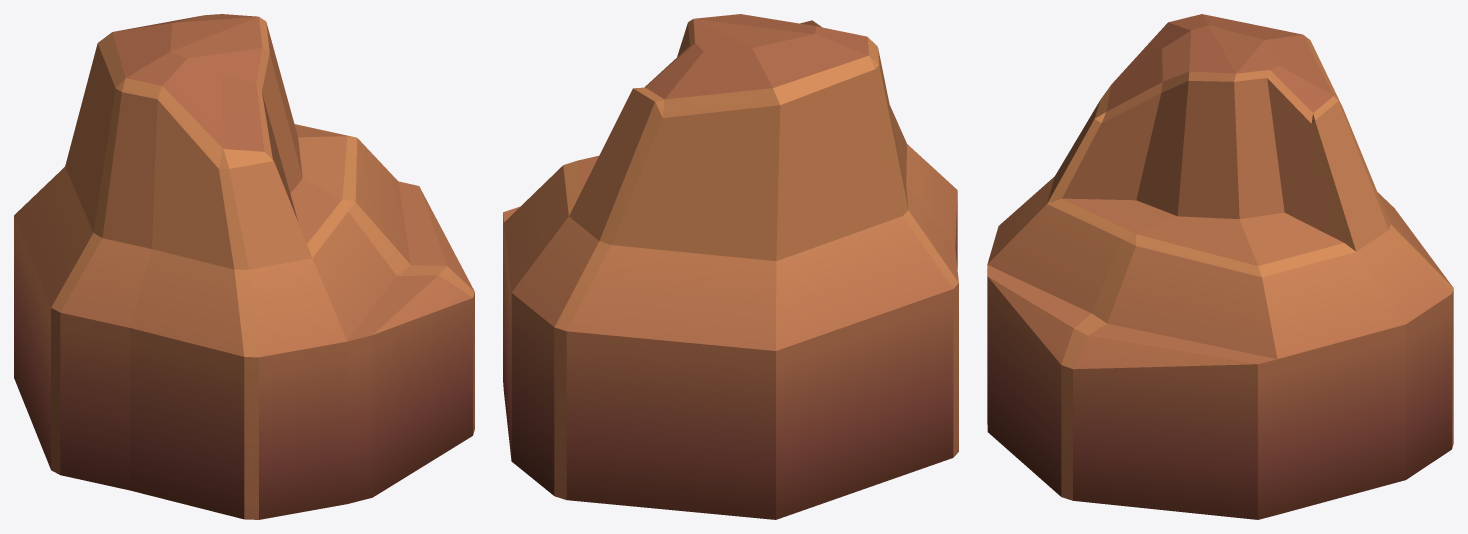
File: Rock-2-10.fbx
3 renders of one model, left to right at view 1: azimuth 30°, elevation 25°; view 2: azimuth 150°, elevation 25°; view 3: azimuth 270°, elevation 25°, orthographic. The views are drawn at different scales.
Visible parts, largest first — view 1: Rock-2-10; view 2: Rock-2-10; view 3: Rock-2-10.
Part boxes in pixels (x1,y1,x2,y2): Rock-2-10: (14, 14, 474, 519); Rock-2-10: (503, 14, 958, 519); Rock-2-10: (987, 14, 1453, 519).
Bounding box in the file's own units: 336 × 306 × 353.
